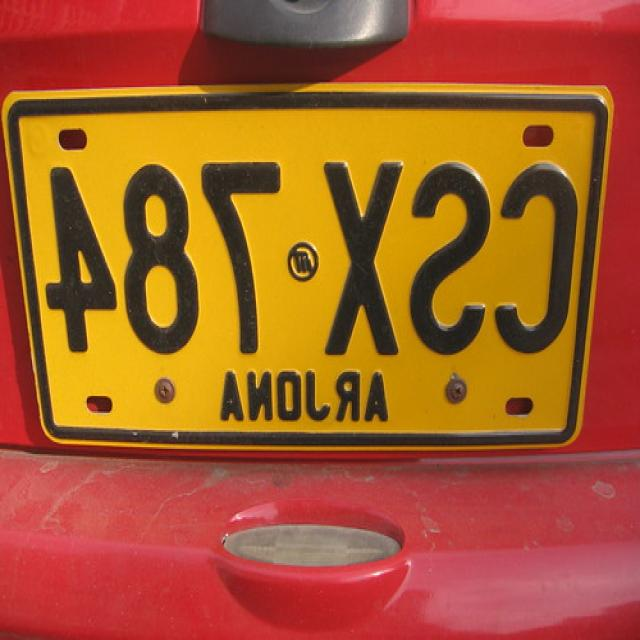placas: (16, 102, 600, 363)
